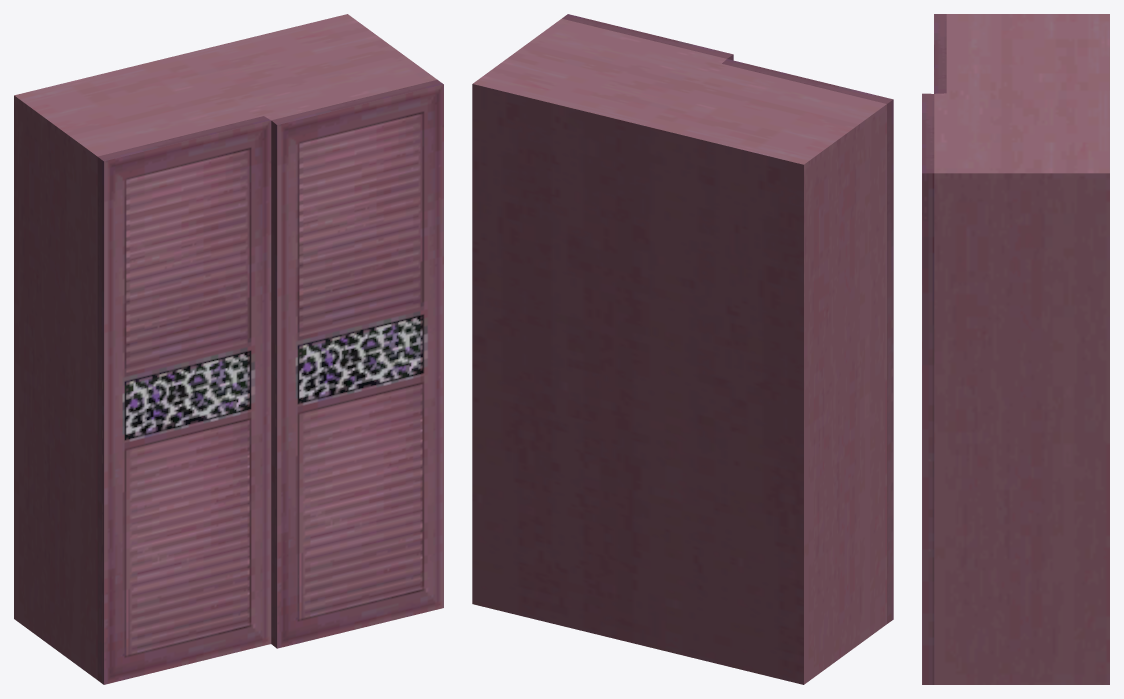
The model's file is furni_0200078_02.FBX.
The picture shows the model from 3 angles, left to right: view 1: azimuth 30°, elevation 25°; view 2: azimuth 150°, elevation 25°; view 3: azimuth 270°, elevation 25°; orthographic projection. The views are drawn at different scales.
Visible parts, largest first — view 1: furni_0200078_02; view 2: furni_0200078_02; view 3: furni_0200078_02.
Part boxes in pixels (x1,y1,x2,y2): furni_0200078_02: (14,14,443,684); furni_0200078_02: (472,14,893,684); furni_0200078_02: (922,14,1109,684).
Size of the model in its own units: 160 by 240 by 79.9.
Materials: 1 (1 with a texture image).
